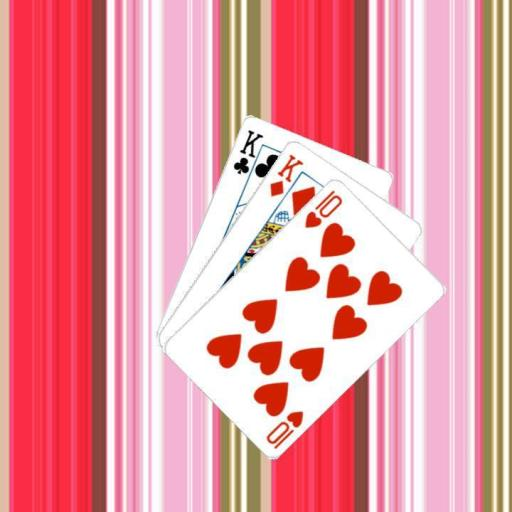card-corner: (230, 126, 266, 184), (262, 407, 305, 450), (302, 186, 344, 230), (266, 151, 305, 198)
